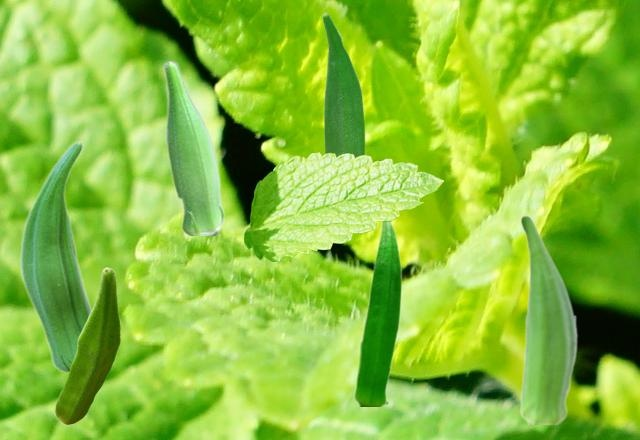okra: (19, 140, 91, 370), (519, 214, 577, 423), (162, 60, 223, 234), (55, 267, 119, 423), (353, 221, 402, 405), (322, 12, 364, 155)
